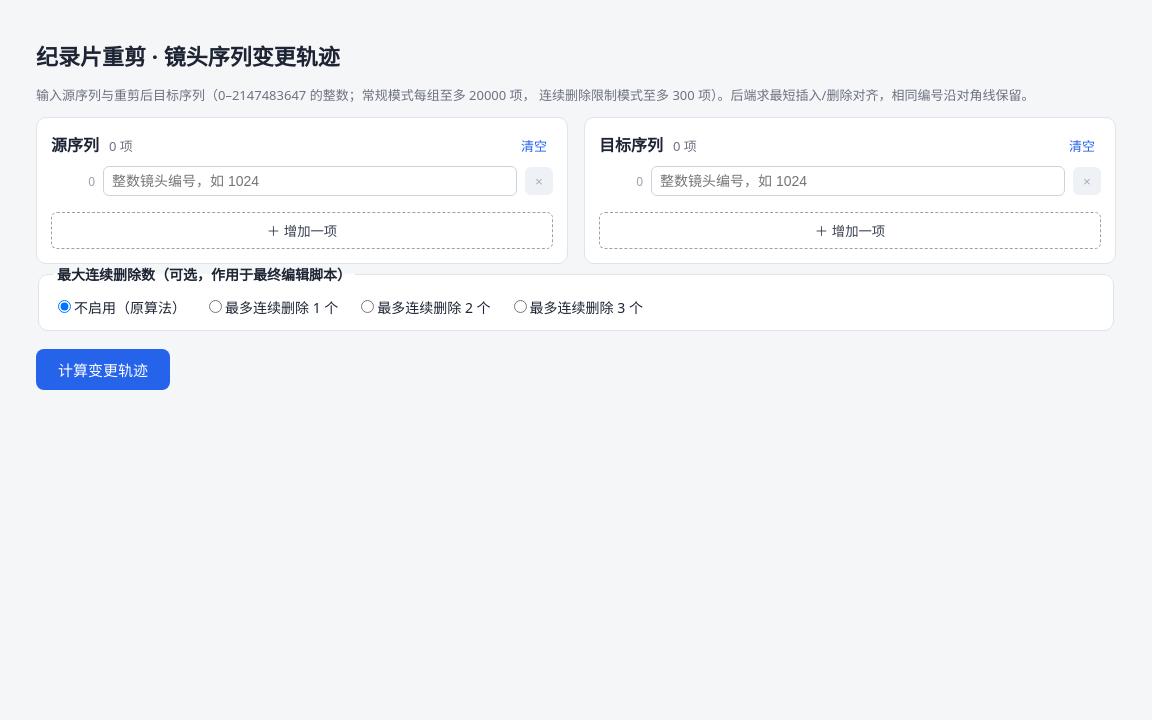
Test: App 连续提交 › 先失败、再提交合法输入：错误消失并显示新轨迹
Click the button with test id "compare": x=103, y=370 [36,350,170,390]
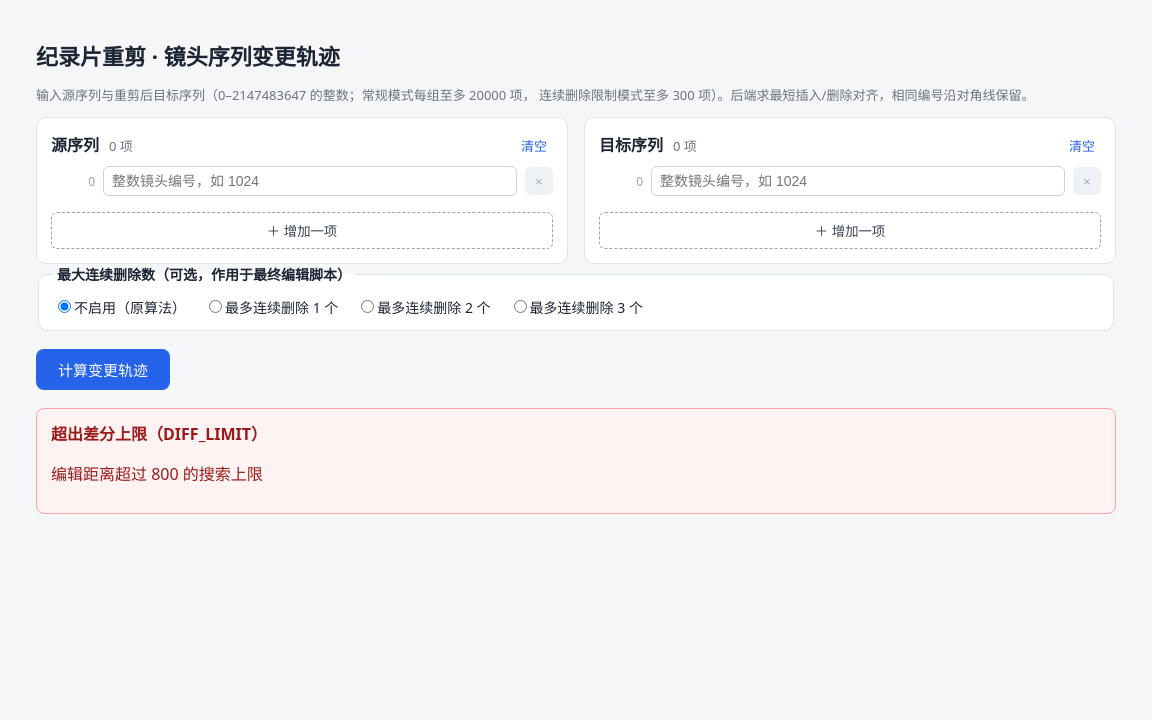
Result: the message "超出差分上限（DIFF_LIMIT） 编辑距离超过 800 的搜索上限" is shown at [36,408,1116,514]
Click the button with test id "compare": x=103, y=370 [36,350,170,390]
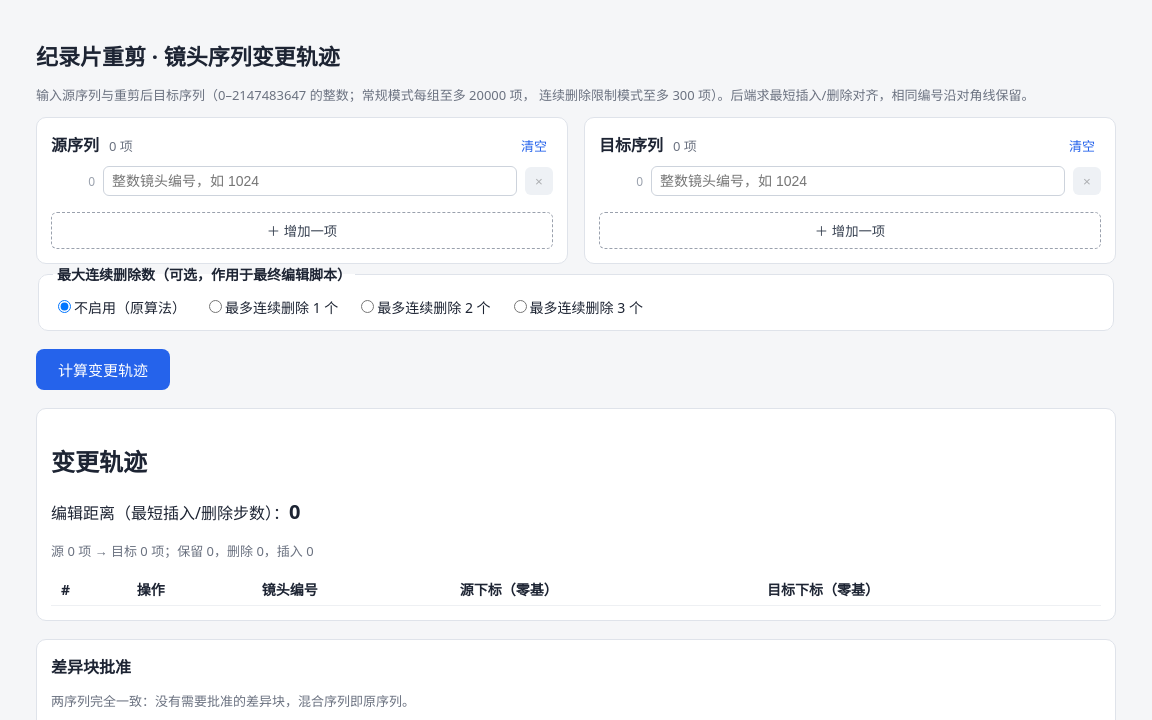
Result: the element with test id "result-view" is shown at [36,408,1116,621]
Result: the message with test id "error-banner" is gone
